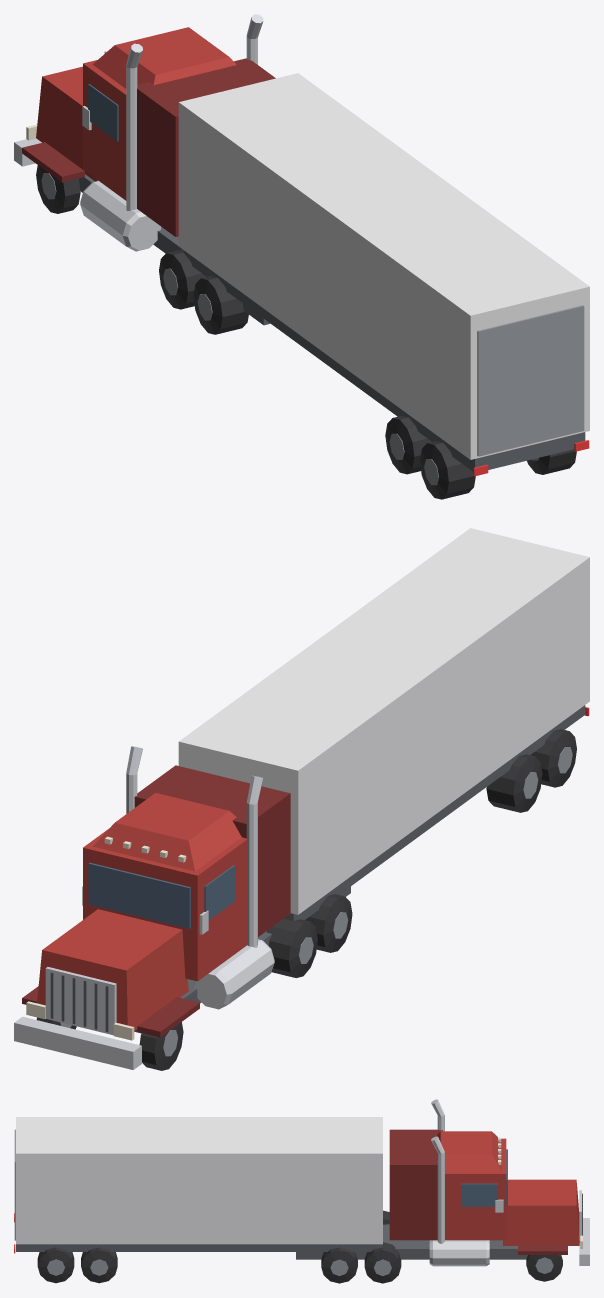
Rendered from Semi.obj.
The picture shows the model from 3 angles, top to bottom: view 1: azimuth 30°, elevation 25°; view 2: azimuth 150°, elevation 25°; view 3: azimuth 270°, elevation 25°; orthographic projection. The views are drawn at different scales.
Visible parts, largest first — view 1: Semi; view 2: Semi; view 3: Semi.
Boxes of the visible parts, x1,y1,x2,y2 form: Semi: [14, 14, 589, 499]; Semi: [14, 528, 589, 1070]; Semi: [14, 1099, 589, 1283].
Bounding box in the file's own units: 3.31 × 4.8 × 17.27.
1 material, 1 textured.
